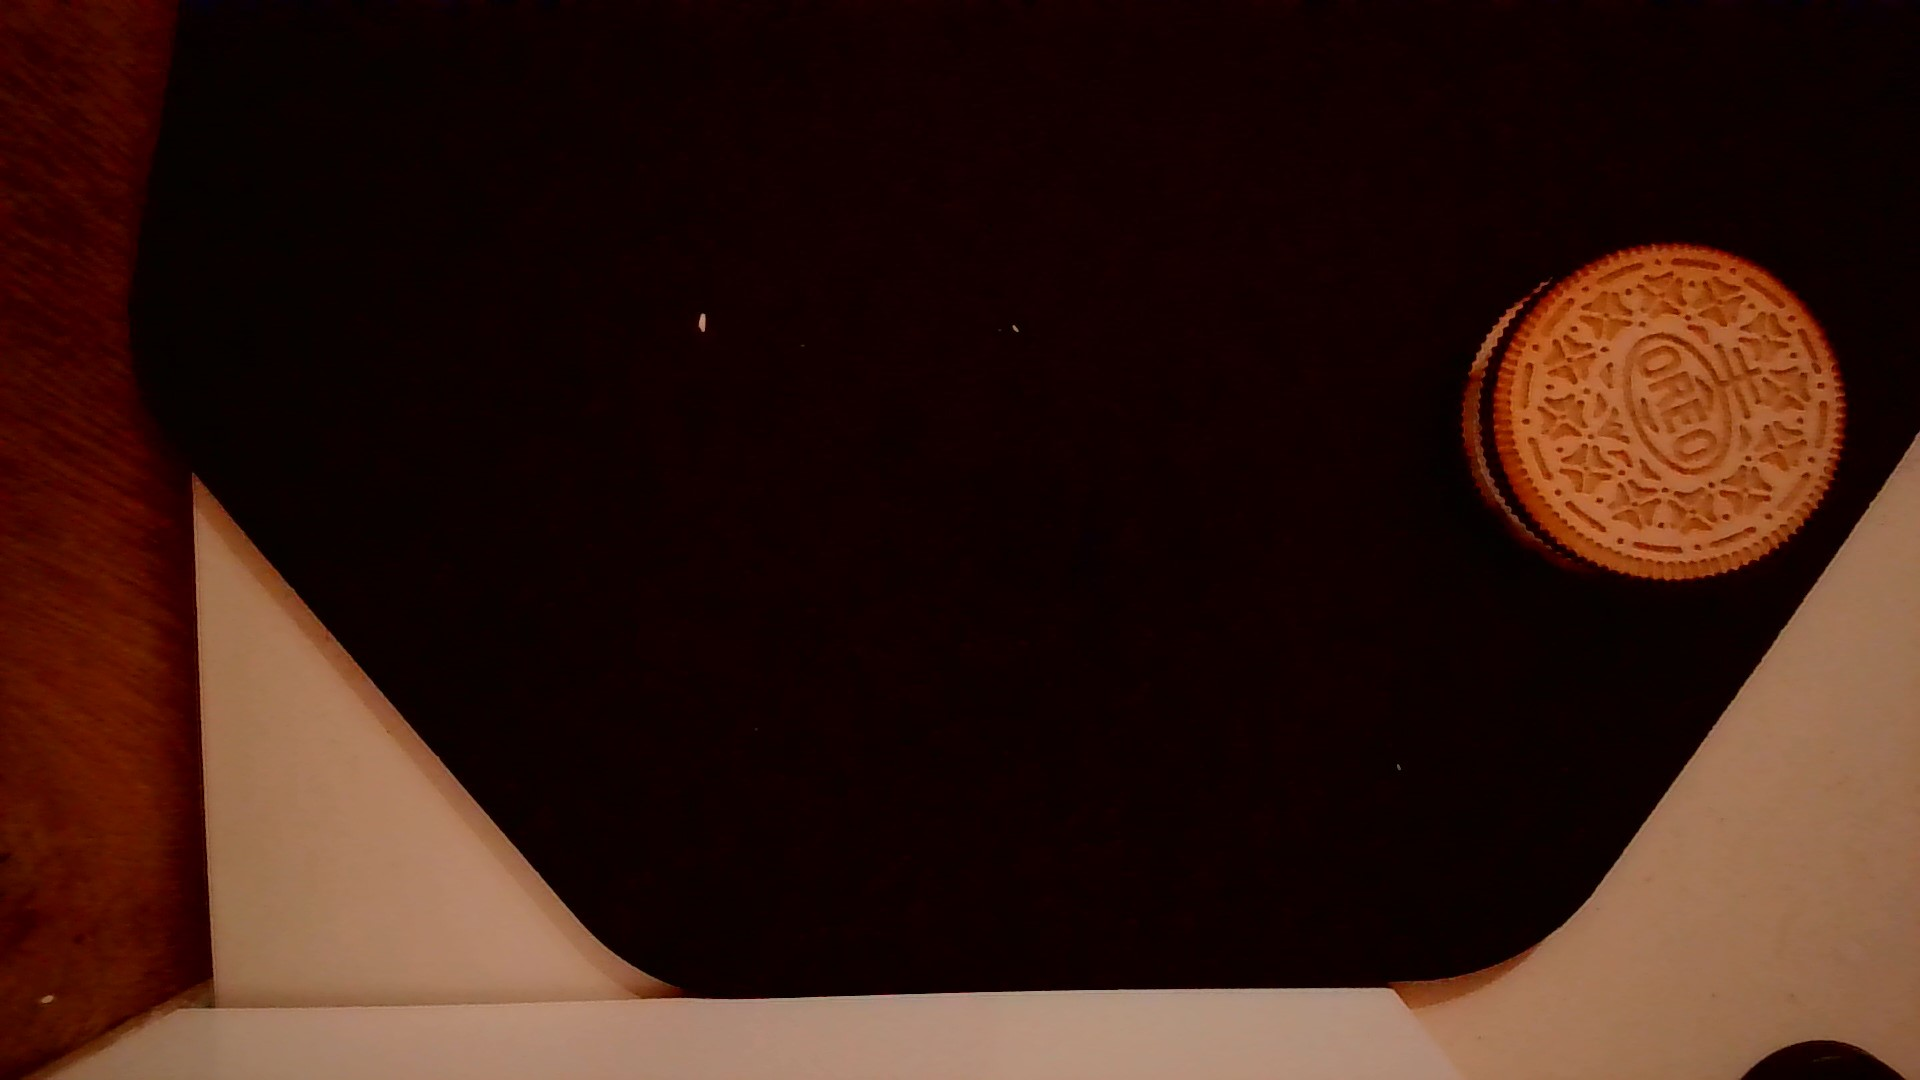Oréo: (1445, 235, 1855, 591)
